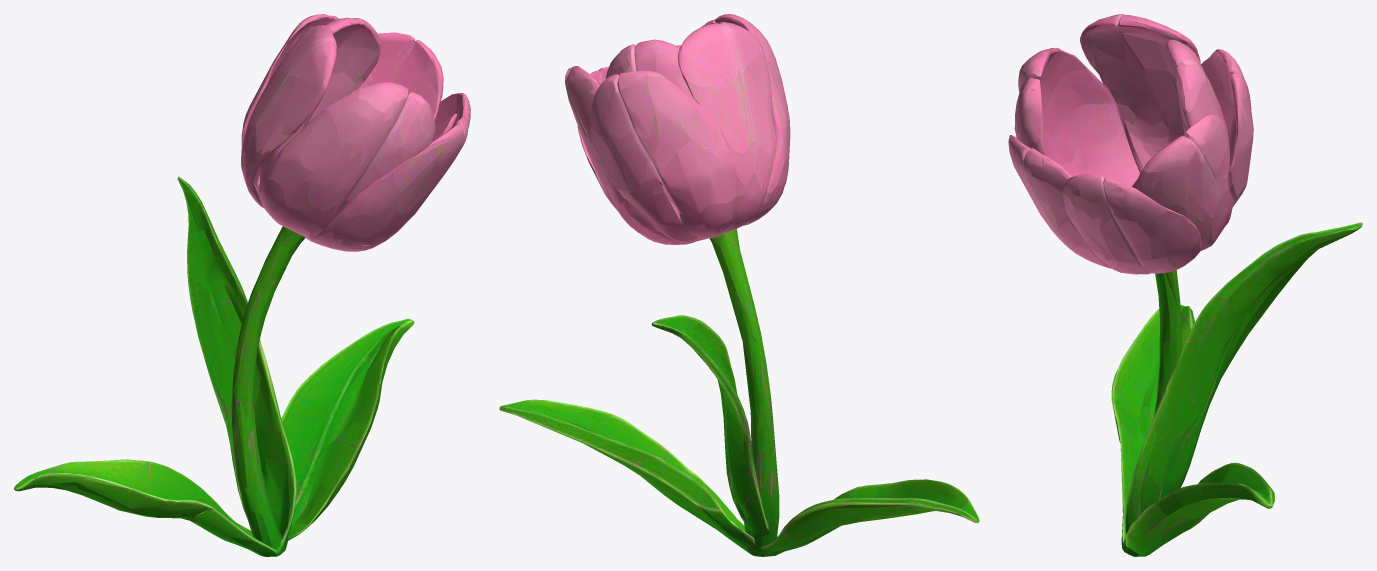
Rendered from tulip.glb.
3 renders of one model, left to right at view 1: azimuth 30°, elevation 25°; view 2: azimuth 150°, elevation 25°; view 3: azimuth 270°, elevation 25°, orthographic. The views are drawn at different scales.
Bounding box in the file's own units: 1.71 × 1.9 × 1.08.
1 material, 1 textured.
